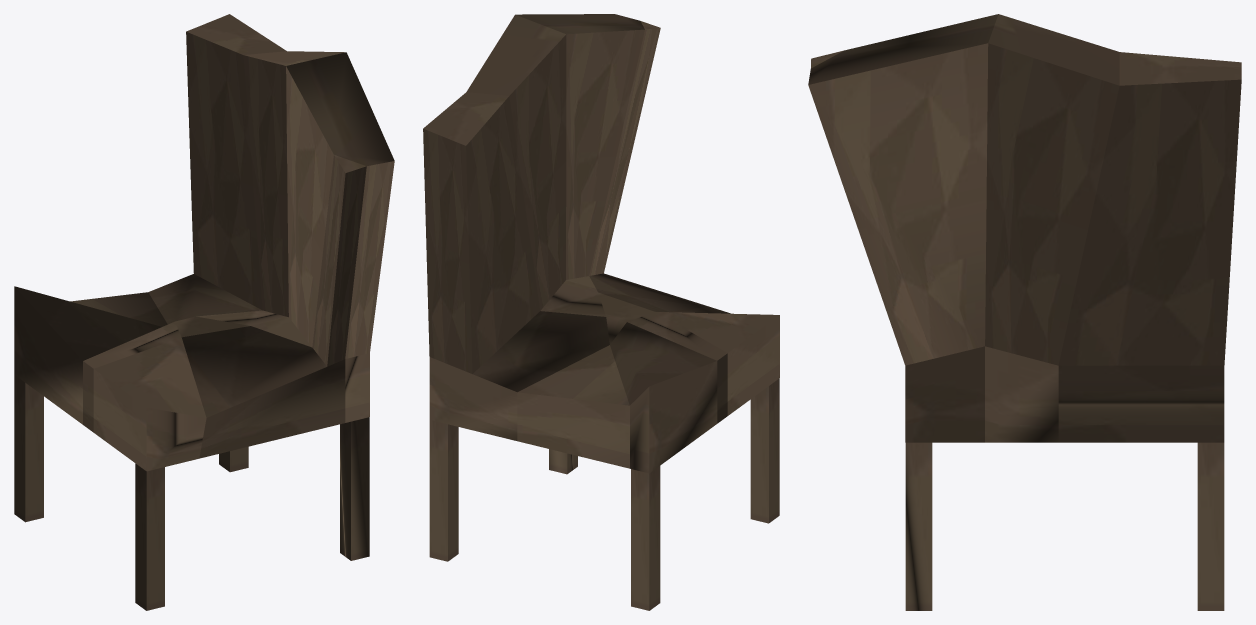
Rendered from chair.fbx.
3 renders of one model, left to right at view 1: azimuth 30°, elevation 25°; view 2: azimuth 150°, elevation 25°; view 3: azimuth 270°, elevation 25°, orthographic. The views are drawn at different scales.
Visible parts, largest first — view 1: chair; view 2: chair; view 3: chair.
Part boxes in pixels (x1,y1,x2,y2): chair: (14,14,394,610); chair: (423,14,779,610); chair: (808,14,1241,610).
Bounding box in the file's own units: 36.8 × 71.05 × 48.61.
1 material, 1 textured.
